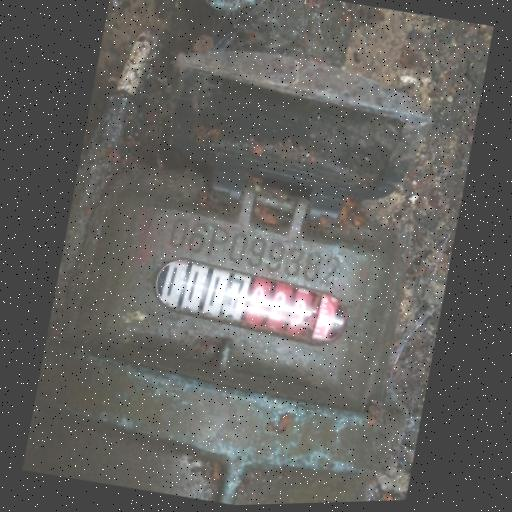0: (311, 293, 341, 343)
1: (158, 257, 189, 309), (201, 266, 231, 319), (180, 261, 210, 313)
2: (263, 280, 294, 335)
3: (283, 285, 316, 341)
7: (221, 271, 252, 325)
9: (241, 274, 272, 330)
border_water_meter_number: (144, 244, 357, 357)
